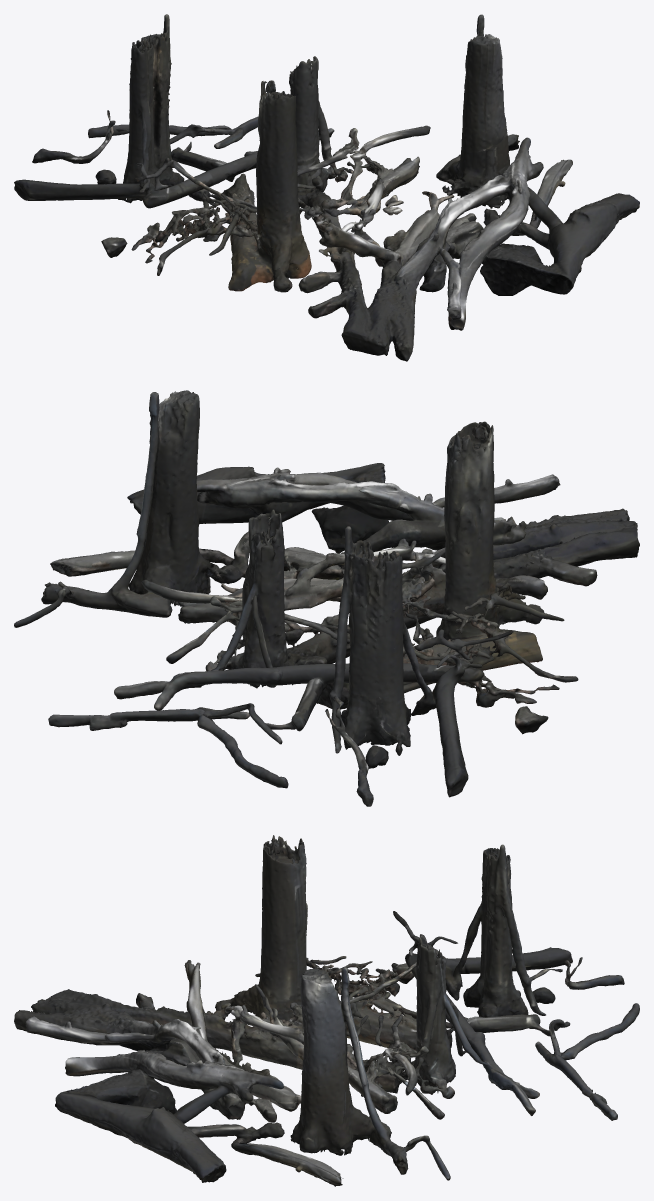
File: Meshy_AI_Deforestation_Afterma_1119013255_texture.glb
3 views of the same model, one above another, from view 1: azimuth 30°, elevation 25°; view 2: azimuth 150°, elevation 25°; view 3: azimuth 270°, elevation 25° (orthographic). The views are drawn at different scales.
Bounding box in the file's own units: 1.7 × 0.7206 × 2.
Materials: 1 (1 with a texture image).
